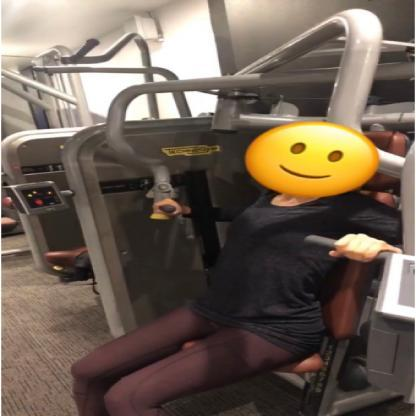Chest Press machine: (40, 5, 416, 416)
